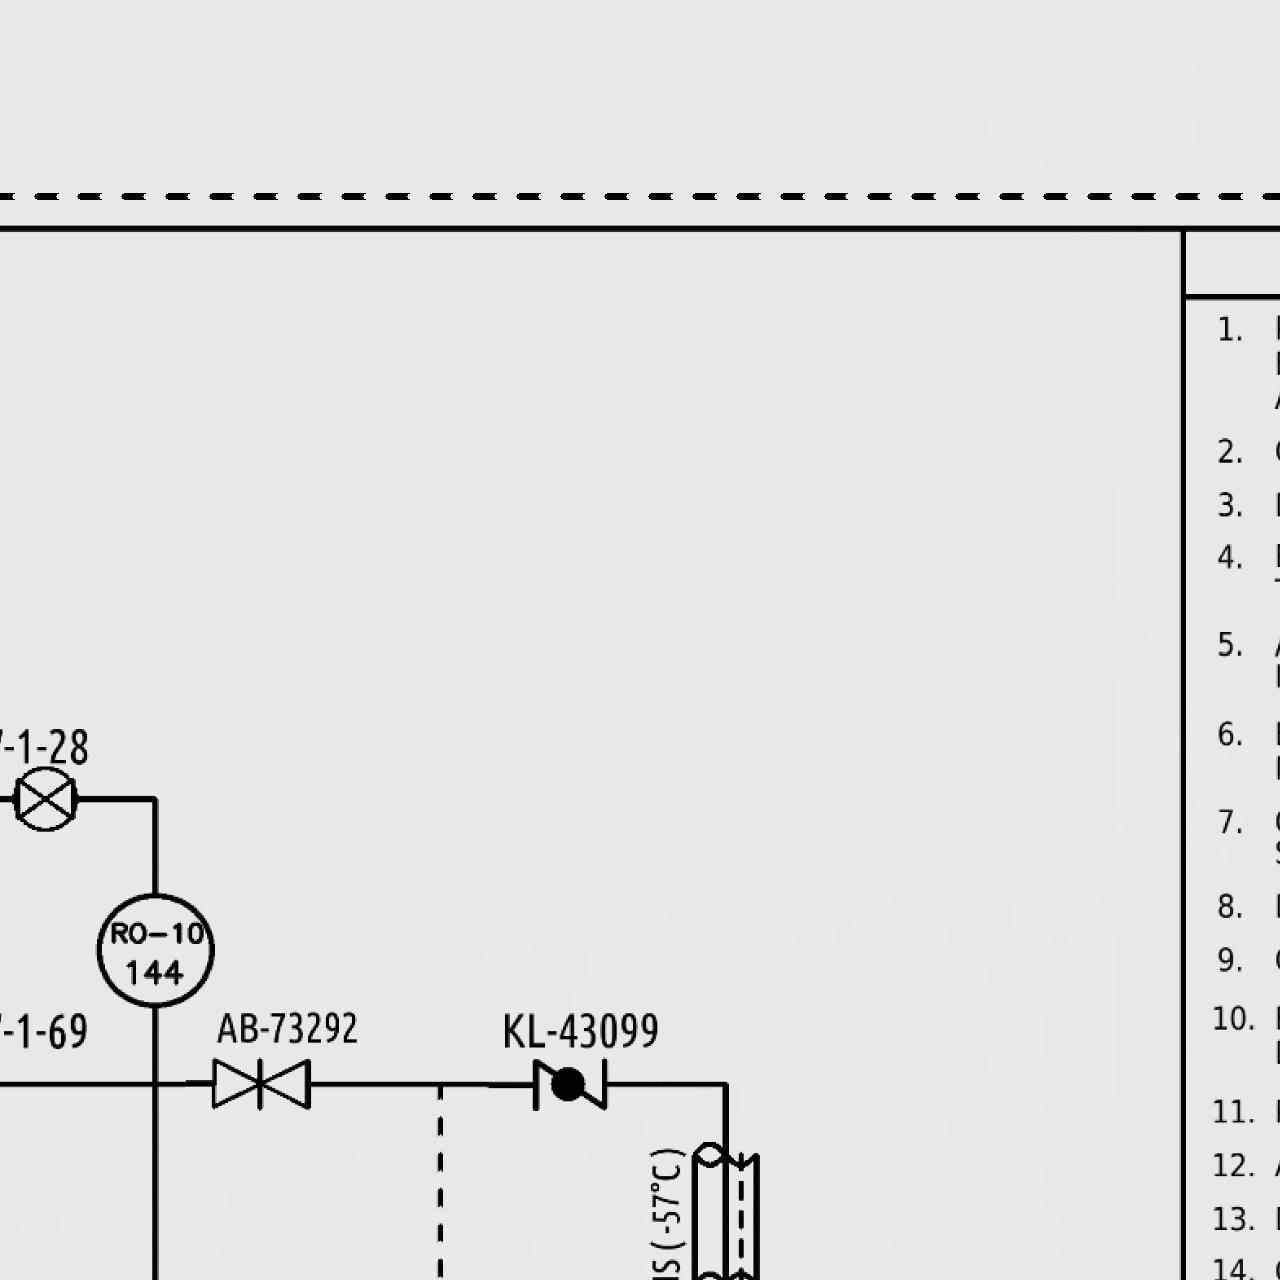Control-Panel: (91, 886, 217, 1013)
